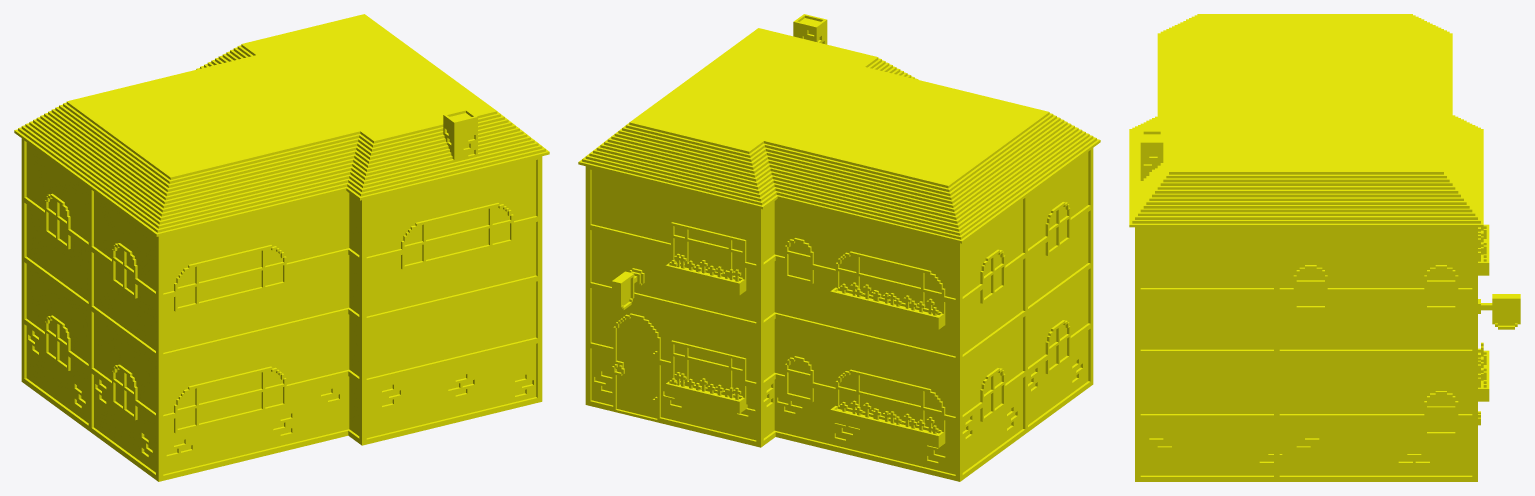
File: voxel-village-inn.glb
The picture shows the model from 3 angles, left to right: view 1: azimuth 30°, elevation 25°; view 2: azimuth 150°, elevation 25°; view 3: azimuth 270°, elevation 25°; orthographic projection. The views are drawn at different scales.
Visible parts, largest first — view 1: VS_Villagers_Inn; view 2: VS_Villagers_Inn; view 3: VS_Villagers_Inn.
Boxes of the visible parts, x1=… form: VS_Villagers_Inn: x1=14, y1=14, x2=549, y2=481; VS_Villagers_Inn: x1=578, y1=14, x2=1100, y2=481; VS_Villagers_Inn: x1=1129, y1=14, x2=1520, y2=481.
Bounding box in the file's own units: 16 × 12 × 13.8.
